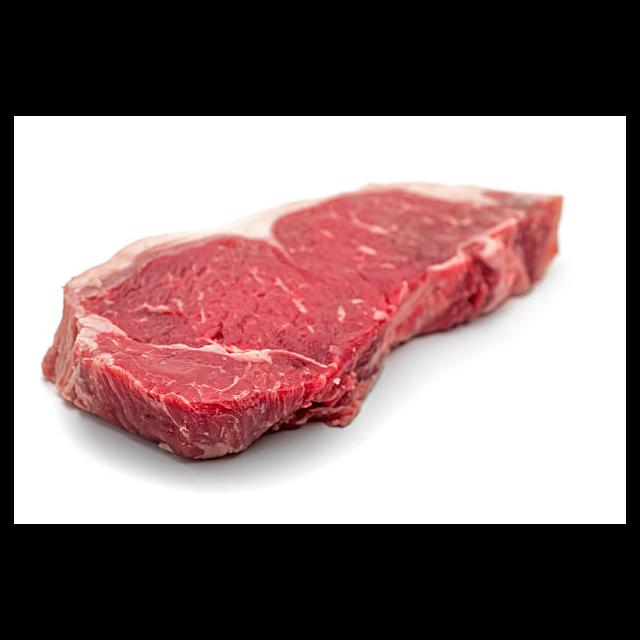beef: (39, 177, 565, 463)
